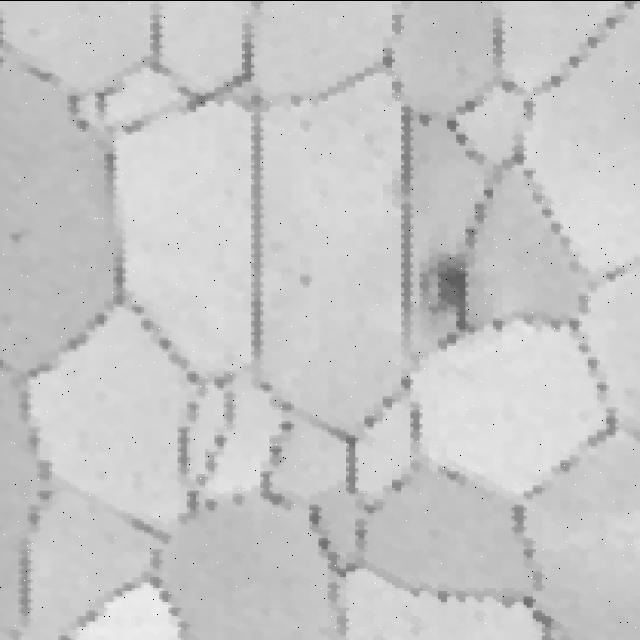good_void: (413, 254, 474, 320), (3, 224, 37, 246), (294, 268, 315, 289)
